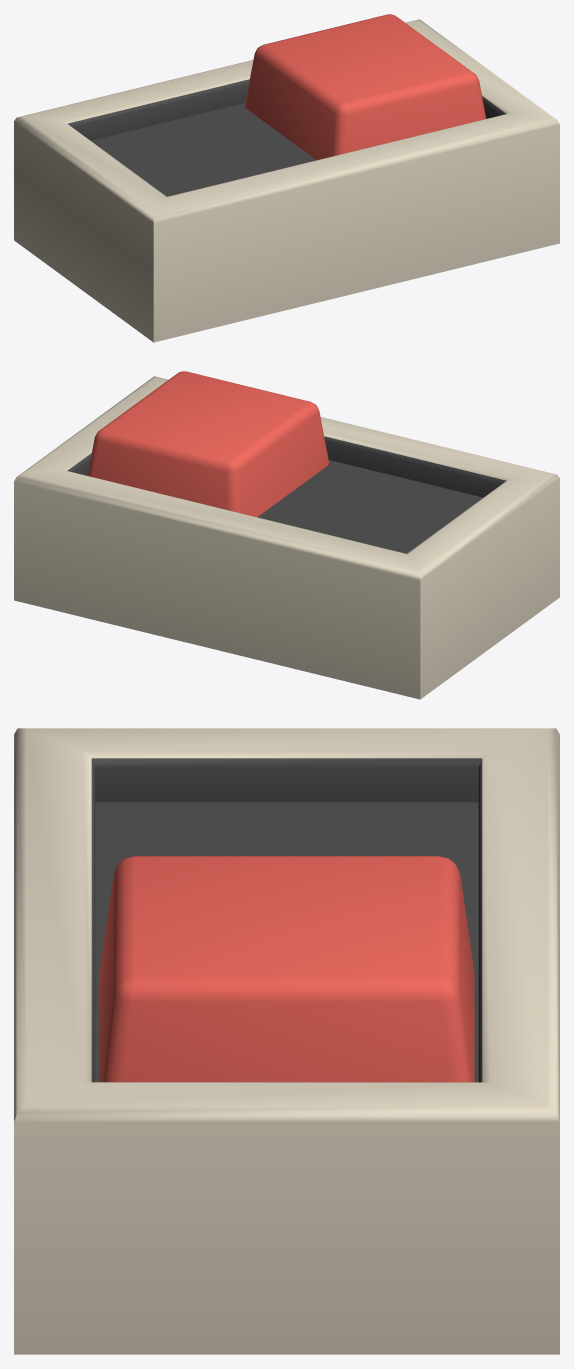
File: Interruptor.fbx
3 renders of one model, top to bottom at view 1: azimuth 30°, elevation 25°; view 2: azimuth 150°, elevation 25°; view 3: azimuth 270°, elevation 25°, orthographic. The views are drawn at different scales.
Parts seen in each view (by area): view 1: Cubo.002, Cubo.001; view 2: Cubo.002, Cubo.001; view 3: Cubo.002, Cubo.001.
Boxes of the visible parts, <box> form: Cubo.002: <box>14,19,559,342</box>; Cubo.001: <box>244,14,486,160</box>; Cubo.002: <box>14,376,559,699</box>; Cubo.001: <box>87,371,329,517</box>; Cubo.002: <box>14,728,559,1354</box>; Cubo.001: <box>99,856,474,1082</box>.
Size of the model in its own units: 320 by 123 by 191.
